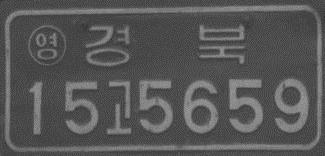1: (26, 80, 46, 135)
5: (63, 78, 100, 135), (227, 77, 264, 133), (136, 78, 173, 133)
6: (182, 78, 218, 133)
9: (272, 77, 310, 134)
경북_D: (83, 20, 247, 67)
고: (105, 78, 133, 135)
영: (27, 24, 67, 68)
